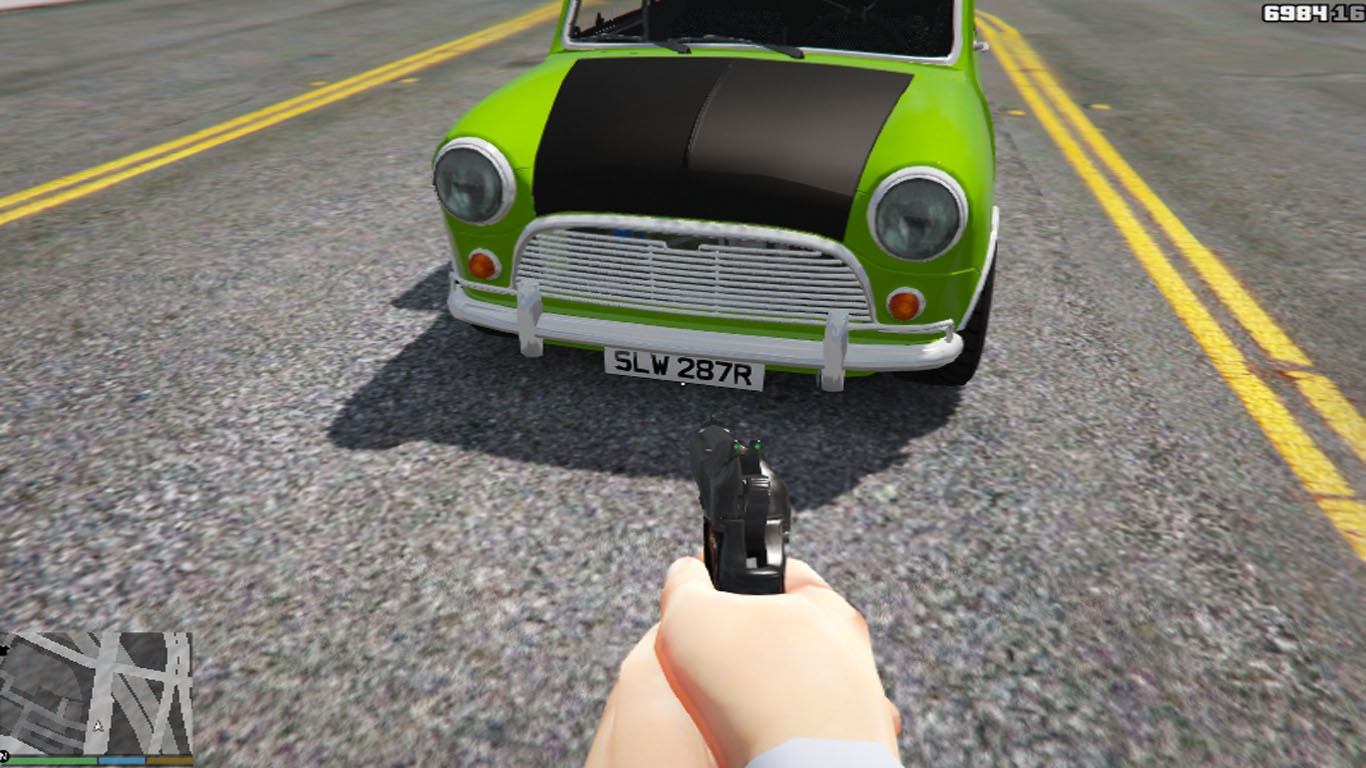license plate: (602, 344, 767, 395)
